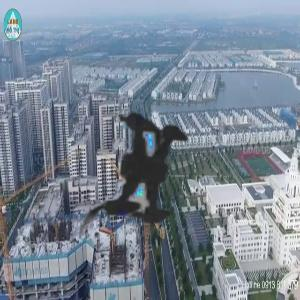drone: (15, 31, 284, 300)
